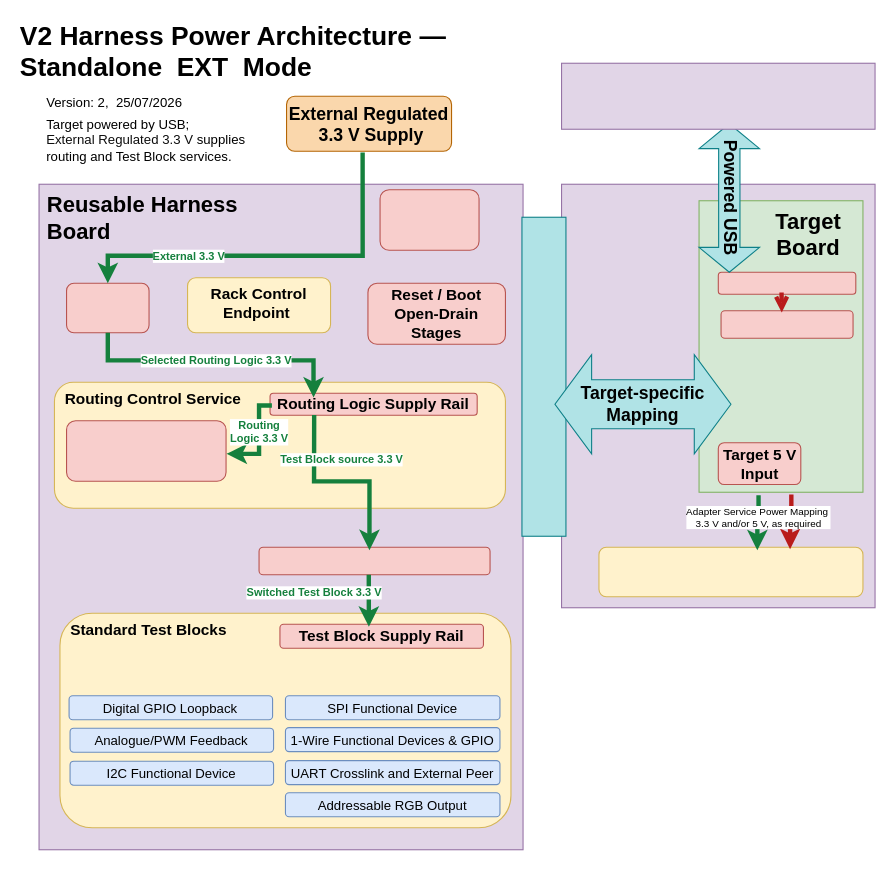
This 894x869 diagram has some shape labels left out. The shapes that lost their labels are listed below. From the top down, each one's centre as x and y in pixels, then its label:
At point 717,95: "Ubuntu Test Host".
At point 429,219: "Target 5 V Power Switch".
At point 786,282: "Target USB".
At point 107,307: "Operating Mode".
At point 786,324: "Voltage reg 5V/VBUS to 3.3V Target Supply".
At point 543,376: "Target Interface".
At point 145,450: "Routing Fabric Routing-control Devices".
At point 374,560: "Test Block 3.3 V Power Switch".
At point 730,571: "Target-specific Adapter Services".
